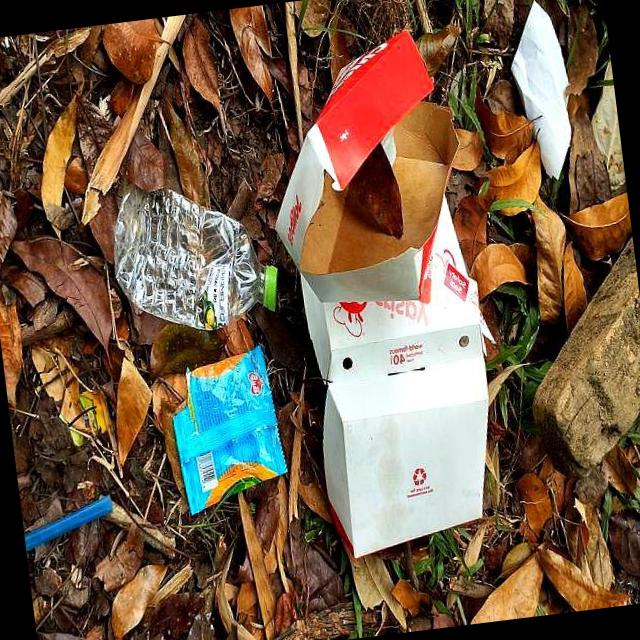Biodegradable: (254, 29, 480, 316), (305, 292, 510, 563)
Non-biodegradable: (106, 171, 284, 341), (167, 346, 291, 518)
